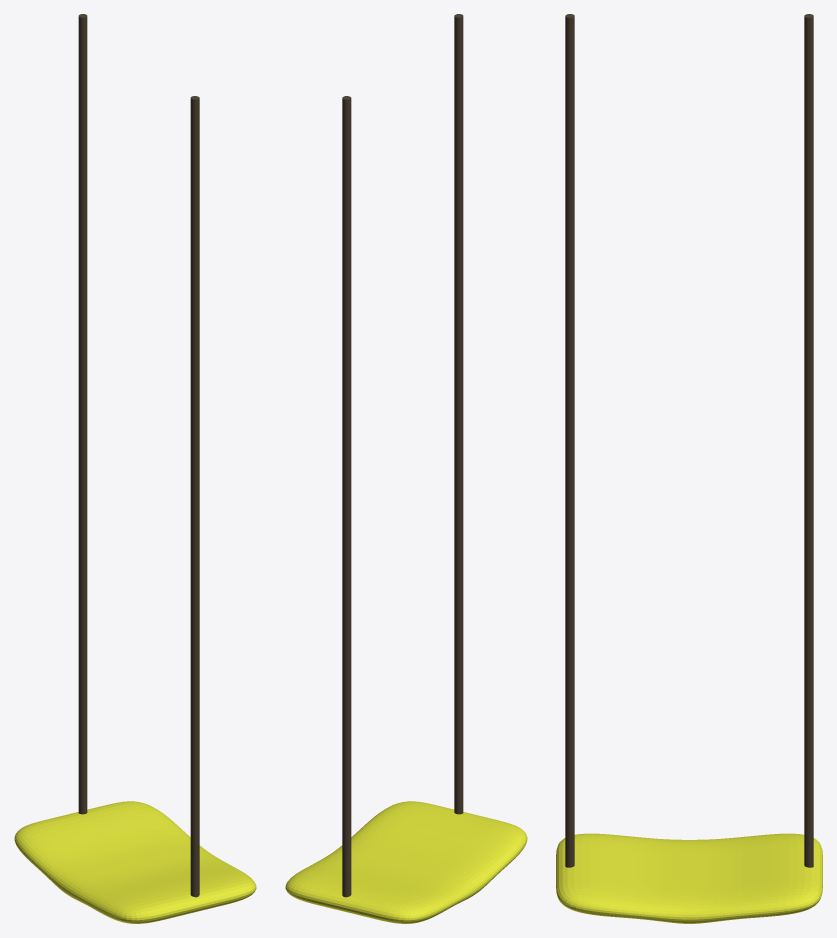
Rendered from columpio_der.obj.
3 views of the same model, side by side, from view 1: azimuth 30°, elevation 25°; view 2: azimuth 150°, elevation 25°; view 3: azimuth 270°, elevation 25° (orthographic). The views are drawn at different scales.
Parts seen in each view (by area): view 1: columpio_der3:HyperNURBS1Cube26; view 2: columpio_der3:HyperNURBS1Cube26; view 3: columpio_der3:HyperNURBS1Cube26.
Part boxes in pixels (x1,y1,x2,y2): columpio_der3:HyperNURBS1Cube26: (14,14,256,923); columpio_der3:HyperNURBS1Cube26: (285,14,527,923); columpio_der3:HyperNURBS1Cube26: (556,14,822,923).
Size of the model in its own units: 0.8567 by 4.65 by 1.28.
Materials: 2 (2 with a texture image).
